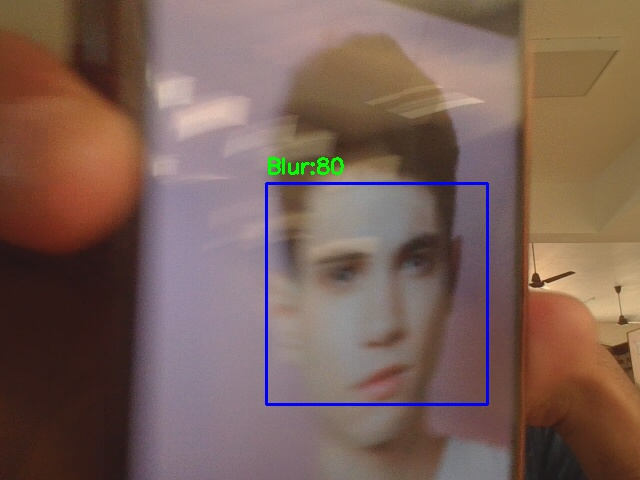fake: (266, 183, 487, 404)
